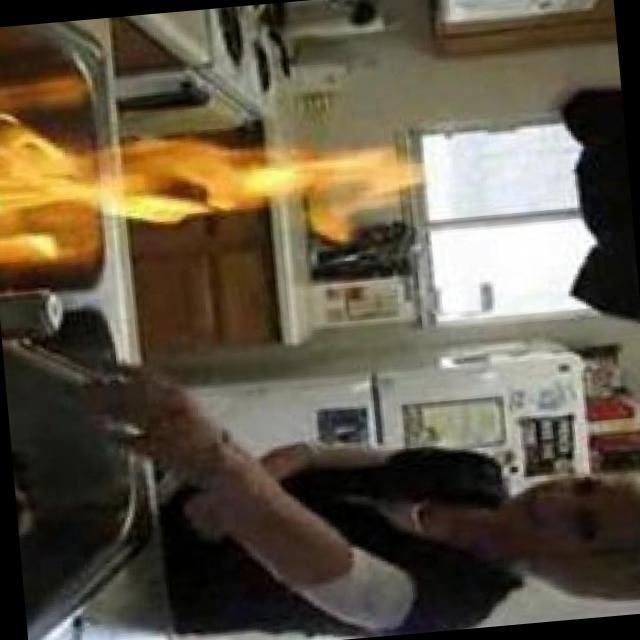Fire: (1, 88, 417, 269)
